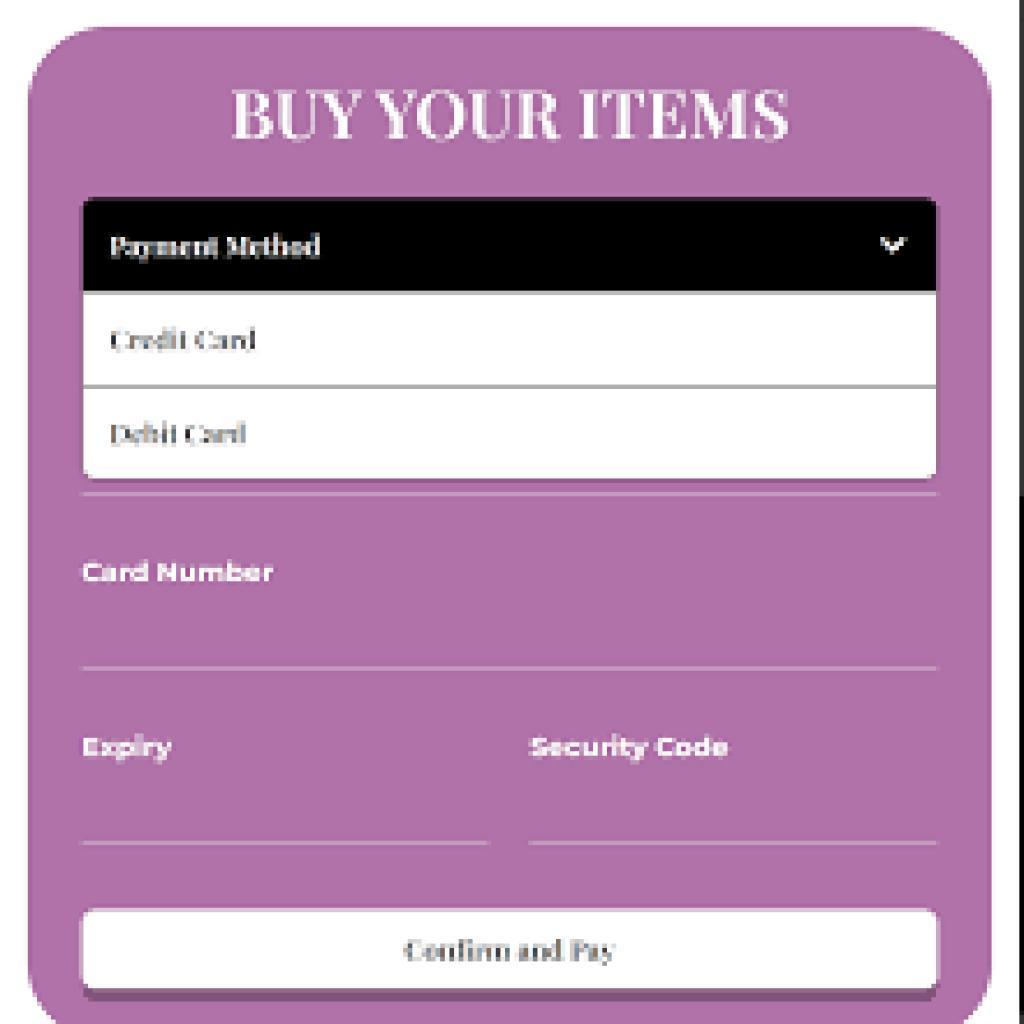button: (84, 905, 941, 992)
dropdown: (87, 198, 940, 289)
